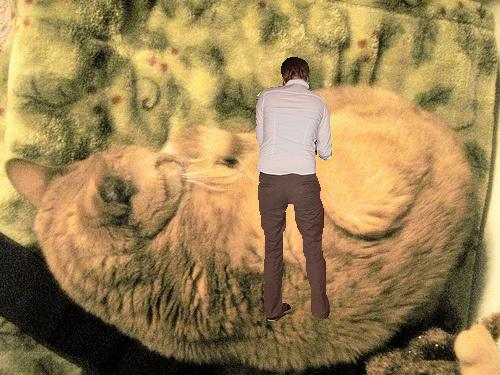tampered: (256, 58, 332, 321)
